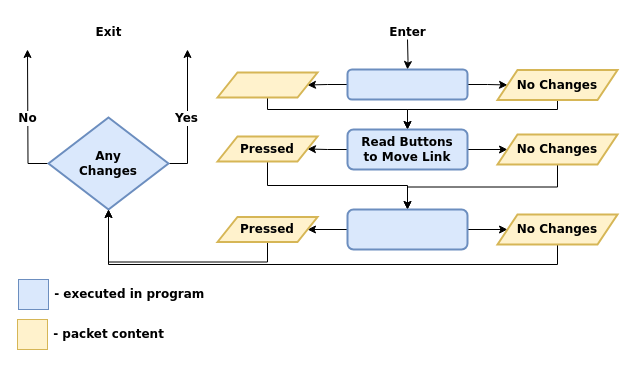
Image size: 636x367. Some labels were removed from this diagram. The shapes that lost their labels are listed below. From the top down, each one's centre as x and y in pixels, then its label:
point (267, 84): Tilted
point (407, 84): Read Joystick
point (407, 229): Read Buttons to Grasp
